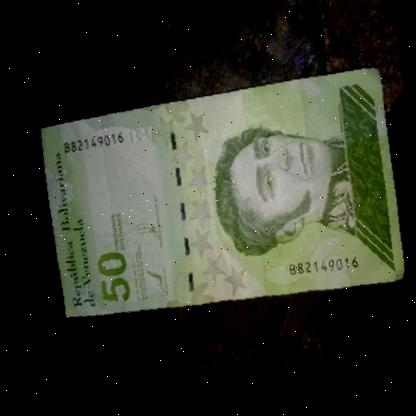fifty-front-vef: (24, 55, 413, 338)
